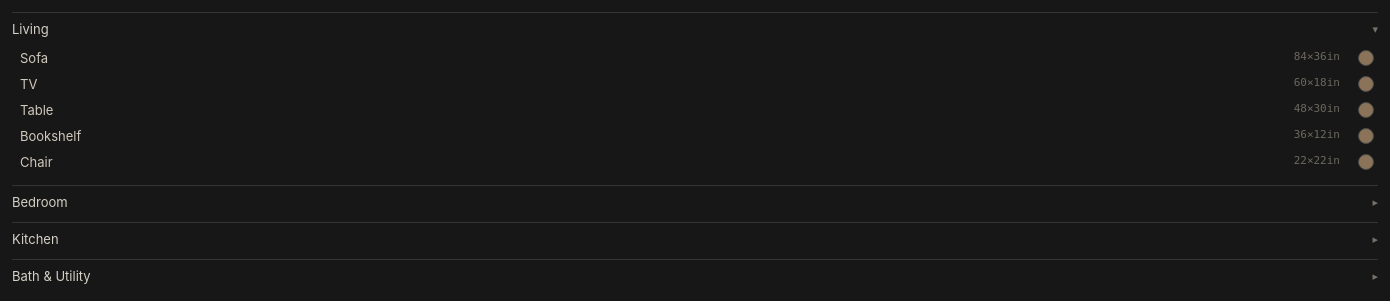
Test: palette › folds items under categories, first one open
expect the button "Sofa 84×36in" is shown: met, box top-left (12, 45), bottom-right (1348, 71)
expect the text "Queen bed" is not shown: met
Click the text "Bedroom": (40, 202) top-left (12, 194), bottom-right (68, 210)
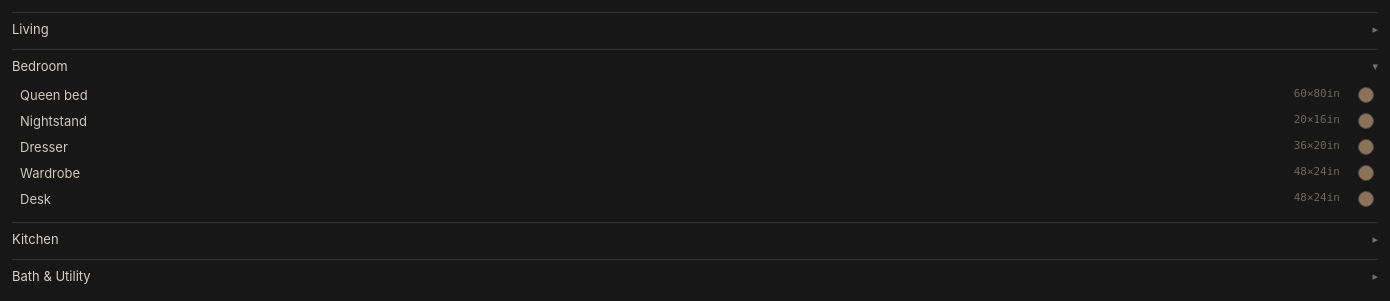
expect the button "Queen bed 60×80in" is shown: met, box top-left (12, 82), bottom-right (1348, 108)
